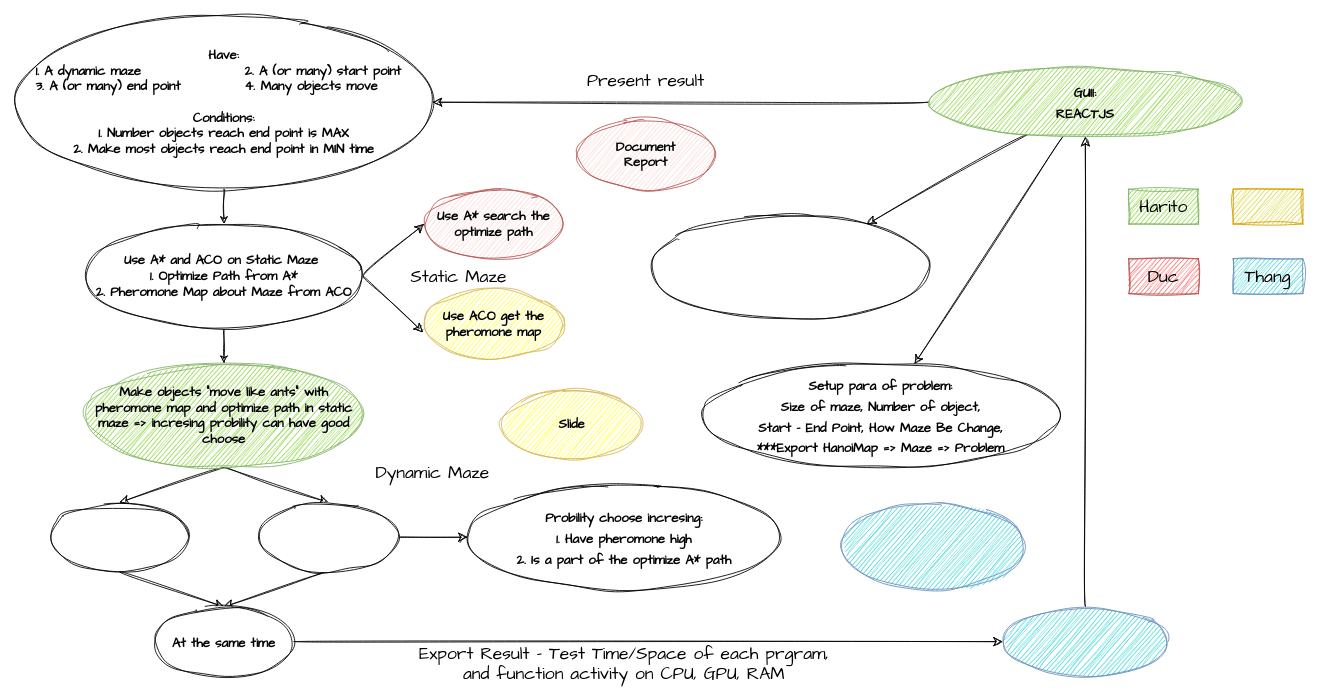
Some shapes in this 1318 by 700 pixel diagram are drawn without their labels. Here are the shapes that lost their labels. From the top down, the centre of each, then its label:
(1267,206): D.Anh
(789,267): Present Dynamic Maze & The Move of Objects in DyMaze & Conclusion about Result
(119,537): Update maze
(328,537): Move objects
(932,545): Visualization Result & Compare Other Papers
(1085,641): Result: + Percent get end point + Time
